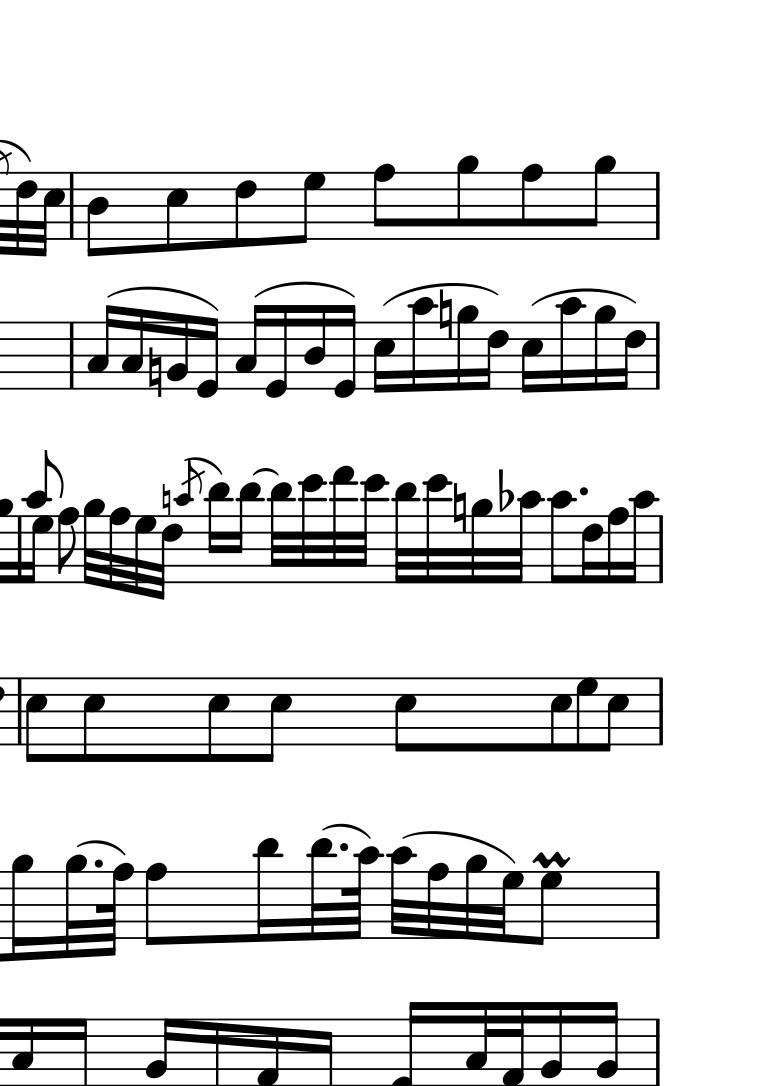16_0: (332, 302, 358, 399), (264, 303, 288, 400), (193, 315, 220, 401)
16_1: (257, 1019, 280, 1085)
16_10: (626, 489, 660, 585), (556, 296, 586, 394), (409, 296, 438, 394)
16_11: (250, 837, 283, 944), (201, 480, 234, 584), (233, 482, 264, 583)
16_2: (143, 1017, 173, 1086), (166, 312, 191, 392), (540, 1000, 563, 1086), (596, 1000, 619, 1086)
16_3: (83, 303, 119, 391), (234, 305, 262, 391), (464, 1001, 492, 1086), (120, 307, 145, 392), (12, 1016, 39, 1086)
16_4: (303, 303, 328, 390)
16_5: (371, 319, 397, 394), (519, 320, 545, 395)
16_6: (617, 320, 648, 391), (480, 320, 510, 393), (580, 514, 604, 585)
16_7: (22, 513, 53, 586)
16_8: (604, 506, 630, 585)
16_9: (10, 854, 33, 962), (453, 303, 479, 392), (592, 304, 617, 392)
32_1: (501, 1001, 525, 1086)
32_10: (511, 489, 545, 585), (387, 845, 416, 941)
32_11: (306, 837, 334, 942), (267, 481, 295, 585), (393, 481, 419, 587)
32_12: (356, 473, 389, 585), (422, 473, 453, 585), (296, 474, 327, 585)
32_13: (326, 466, 359, 583)
32_5: (35, 170, 67, 259)
32_6: (155, 514, 181, 602), (12, 172, 38, 259)
32_7: (494, 869, 523, 943), (131, 514, 156, 597)
32_8: (106, 507, 130, 590), (425, 862, 449, 940)
32_9: (62, 853, 88, 960), (462, 853, 488, 942), (468, 498, 494, 585), (81, 498, 105, 587)
64_10: (344, 846, 383, 939)
64_8: (99, 861, 134, 960)
8_10: (547, 491, 578, 585)
8_4: (85, 170, 111, 258)
8_5: (262, 675, 292, 765), (205, 676, 231, 764), (602, 676, 632, 752), (24, 676, 48, 763), (392, 677, 419, 754), (164, 170, 189, 253), (83, 677, 105, 764), (549, 676, 573, 754)
8_6: (234, 170, 257, 249)
8_7: (530, 870, 564, 947), (296, 170, 325, 244), (574, 675, 599, 755)
8_8: (371, 162, 397, 242), (520, 161, 545, 242), (144, 863, 165, 947)
8_9: (582, 155, 617, 242), (456, 154, 480, 240), (55, 506, 78, 583)
Acciaccature: (175, 461, 205, 584)
Flat: (495, 465, 513, 515)
Natural: (437, 287, 454, 344), (147, 345, 164, 399), (452, 483, 467, 536), (157, 478, 173, 518)
ShortTrill: (531, 848, 572, 869)
Single_barline: (647, 1018, 666, 1085), (647, 872, 666, 939), (648, 171, 666, 240), (63, 172, 81, 241), (10, 677, 28, 744), (652, 514, 669, 584), (652, 677, 669, 746), (649, 322, 666, 389), (64, 322, 80, 389)
Slur: (403, 830, 519, 864), (107, 285, 222, 311), (383, 284, 501, 305), (255, 281, 359, 300), (531, 289, 639, 306), (322, 822, 374, 839), (180, 457, 222, 478), (79, 839, 123, 857), (1, 140, 33, 163), (251, 467, 281, 477)
dot: (575, 485, 590, 499), (337, 841, 350, 855), (93, 856, 104, 870)
